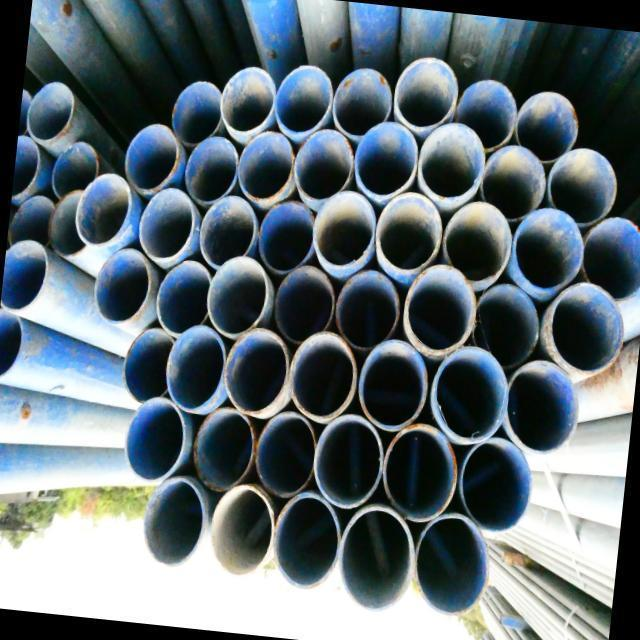pipe: (334, 502, 422, 616), (409, 506, 495, 622), (426, 340, 514, 450), (377, 420, 464, 528), (454, 432, 537, 539), (500, 356, 584, 459), (544, 278, 629, 379), (307, 409, 388, 513), (399, 259, 482, 360), (269, 486, 347, 593), (353, 333, 433, 436), (508, 204, 590, 301), (285, 326, 362, 426), (138, 471, 212, 573), (468, 279, 545, 377), (219, 323, 295, 421), (438, 197, 517, 291), (204, 480, 279, 579), (544, 143, 621, 232), (189, 403, 261, 498), (330, 265, 404, 357), (160, 320, 230, 417), (120, 393, 192, 487), (250, 407, 321, 502), (202, 251, 274, 344), (414, 120, 489, 207), (477, 141, 551, 227), (372, 190, 445, 277), (308, 186, 380, 274), (351, 117, 423, 204), (270, 261, 338, 350), (511, 87, 584, 169), (390, 53, 461, 136), (577, 212, 640, 305), (451, 74, 521, 157), (150, 254, 217, 340), (195, 191, 261, 274), (91, 244, 156, 328), (290, 125, 357, 206), (254, 196, 319, 279), (234, 126, 299, 208), (329, 64, 395, 143), (270, 61, 336, 140), (72, 169, 135, 251), (136, 184, 198, 266), (119, 322, 178, 407), (181, 132, 243, 211), (120, 121, 182, 199), (217, 63, 278, 138), (168, 77, 225, 150)
